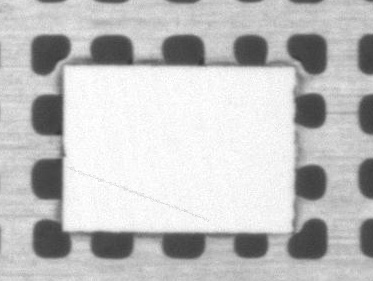DIE_CRACK: (92, 127, 277, 166)
